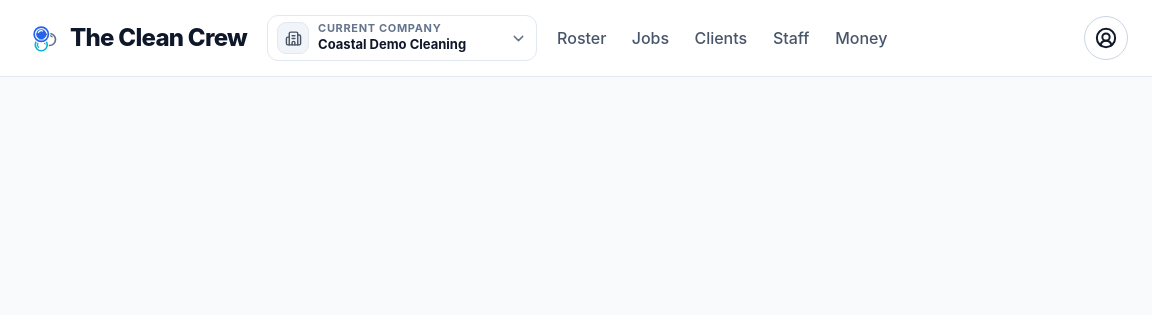
Test case: CrmHeader › lists every active membership and its role in the company selector
This screenshot has width=1152, height=315.
Click the button with aria-label "Current company: Coastal Demo Cleaning" at (402, 38), box top-left (267, 15), bottom-right (537, 61)
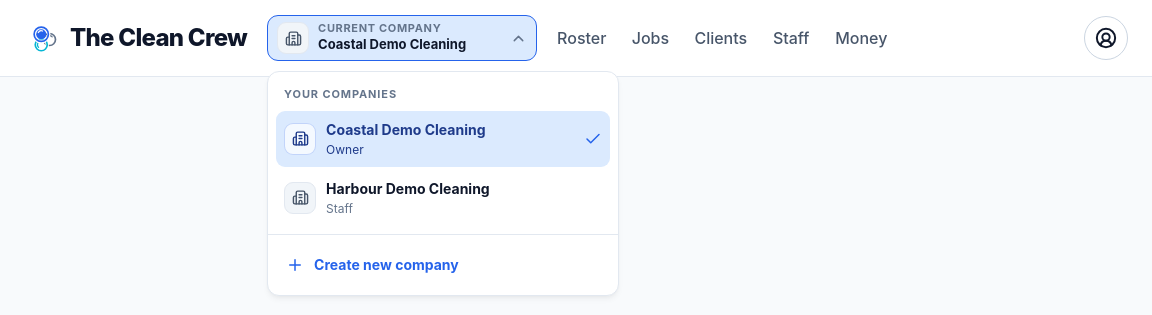
Expected: the text "Coastal Demo Cleaning" below "Your companies" is shown, top-left (326, 121), bottom-right (486, 138)
Expected: the text "Harbour Demo Cleaning" is shown, top-left (326, 180), bottom-right (490, 197)
Expected: the text "Owner" is shown, top-left (326, 142), bottom-right (364, 157)
